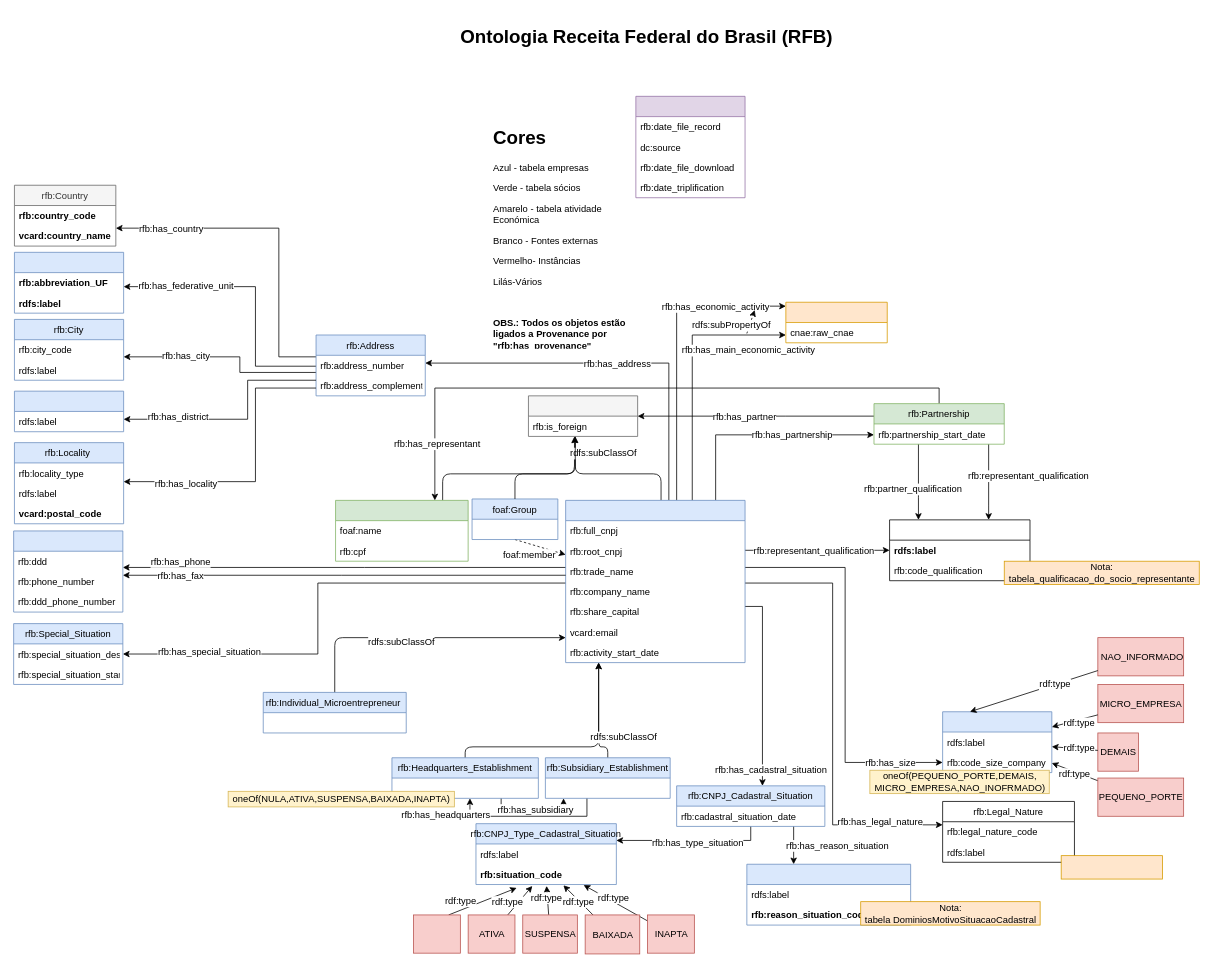
The diagram is 1213 pixels wide and 967 high, and some of its shapes have lost their labels. Here are the shapes that lost their labels. From the top down, the box of each, then its label:
(635, 96, 745, 198): rfb:Provenace
(14, 252, 124, 313): rfb:Federative_Unit
(785, 301, 887, 343): cnae:Economic_Activity
(14, 390, 124, 432): rfb:District
(528, 395, 638, 436): foaf:Agent
(335, 500, 468, 561): foaf:Person (Pessoa Fisica)
(889, 519, 1030, 581): rfb:Qualification
(13, 530, 123, 612): rfb:Contact
(565, 500, 745, 663): foaf:Organization (Pessoa Juridica)
(942, 711, 1052, 773): rfb:Size_Company
(1060, 855, 1163, 879): Nota: https://bit.ly/2URUzpj
(746, 863, 911, 925): rfb:CNPJ_Reason_Cadastral_Situation
(413, 914, 460, 953): NULA
